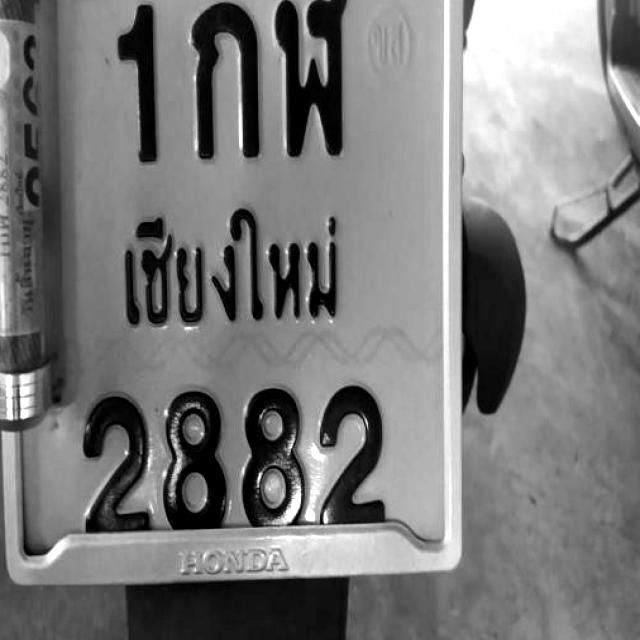letters: (178, 0, 267, 170), (310, 348, 391, 524), (270, 2, 353, 164), (91, 0, 162, 165), (70, 407, 151, 545), (162, 391, 228, 535), (248, 394, 300, 541)
license-plate: (0, 0, 457, 575)
province: (78, 189, 390, 342)
